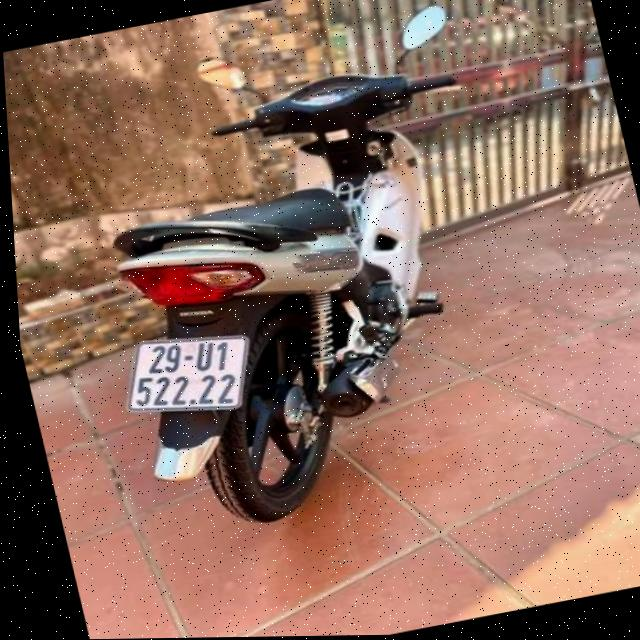motorcycle: (24, 0, 567, 555)
plate: (109, 315, 268, 431)
